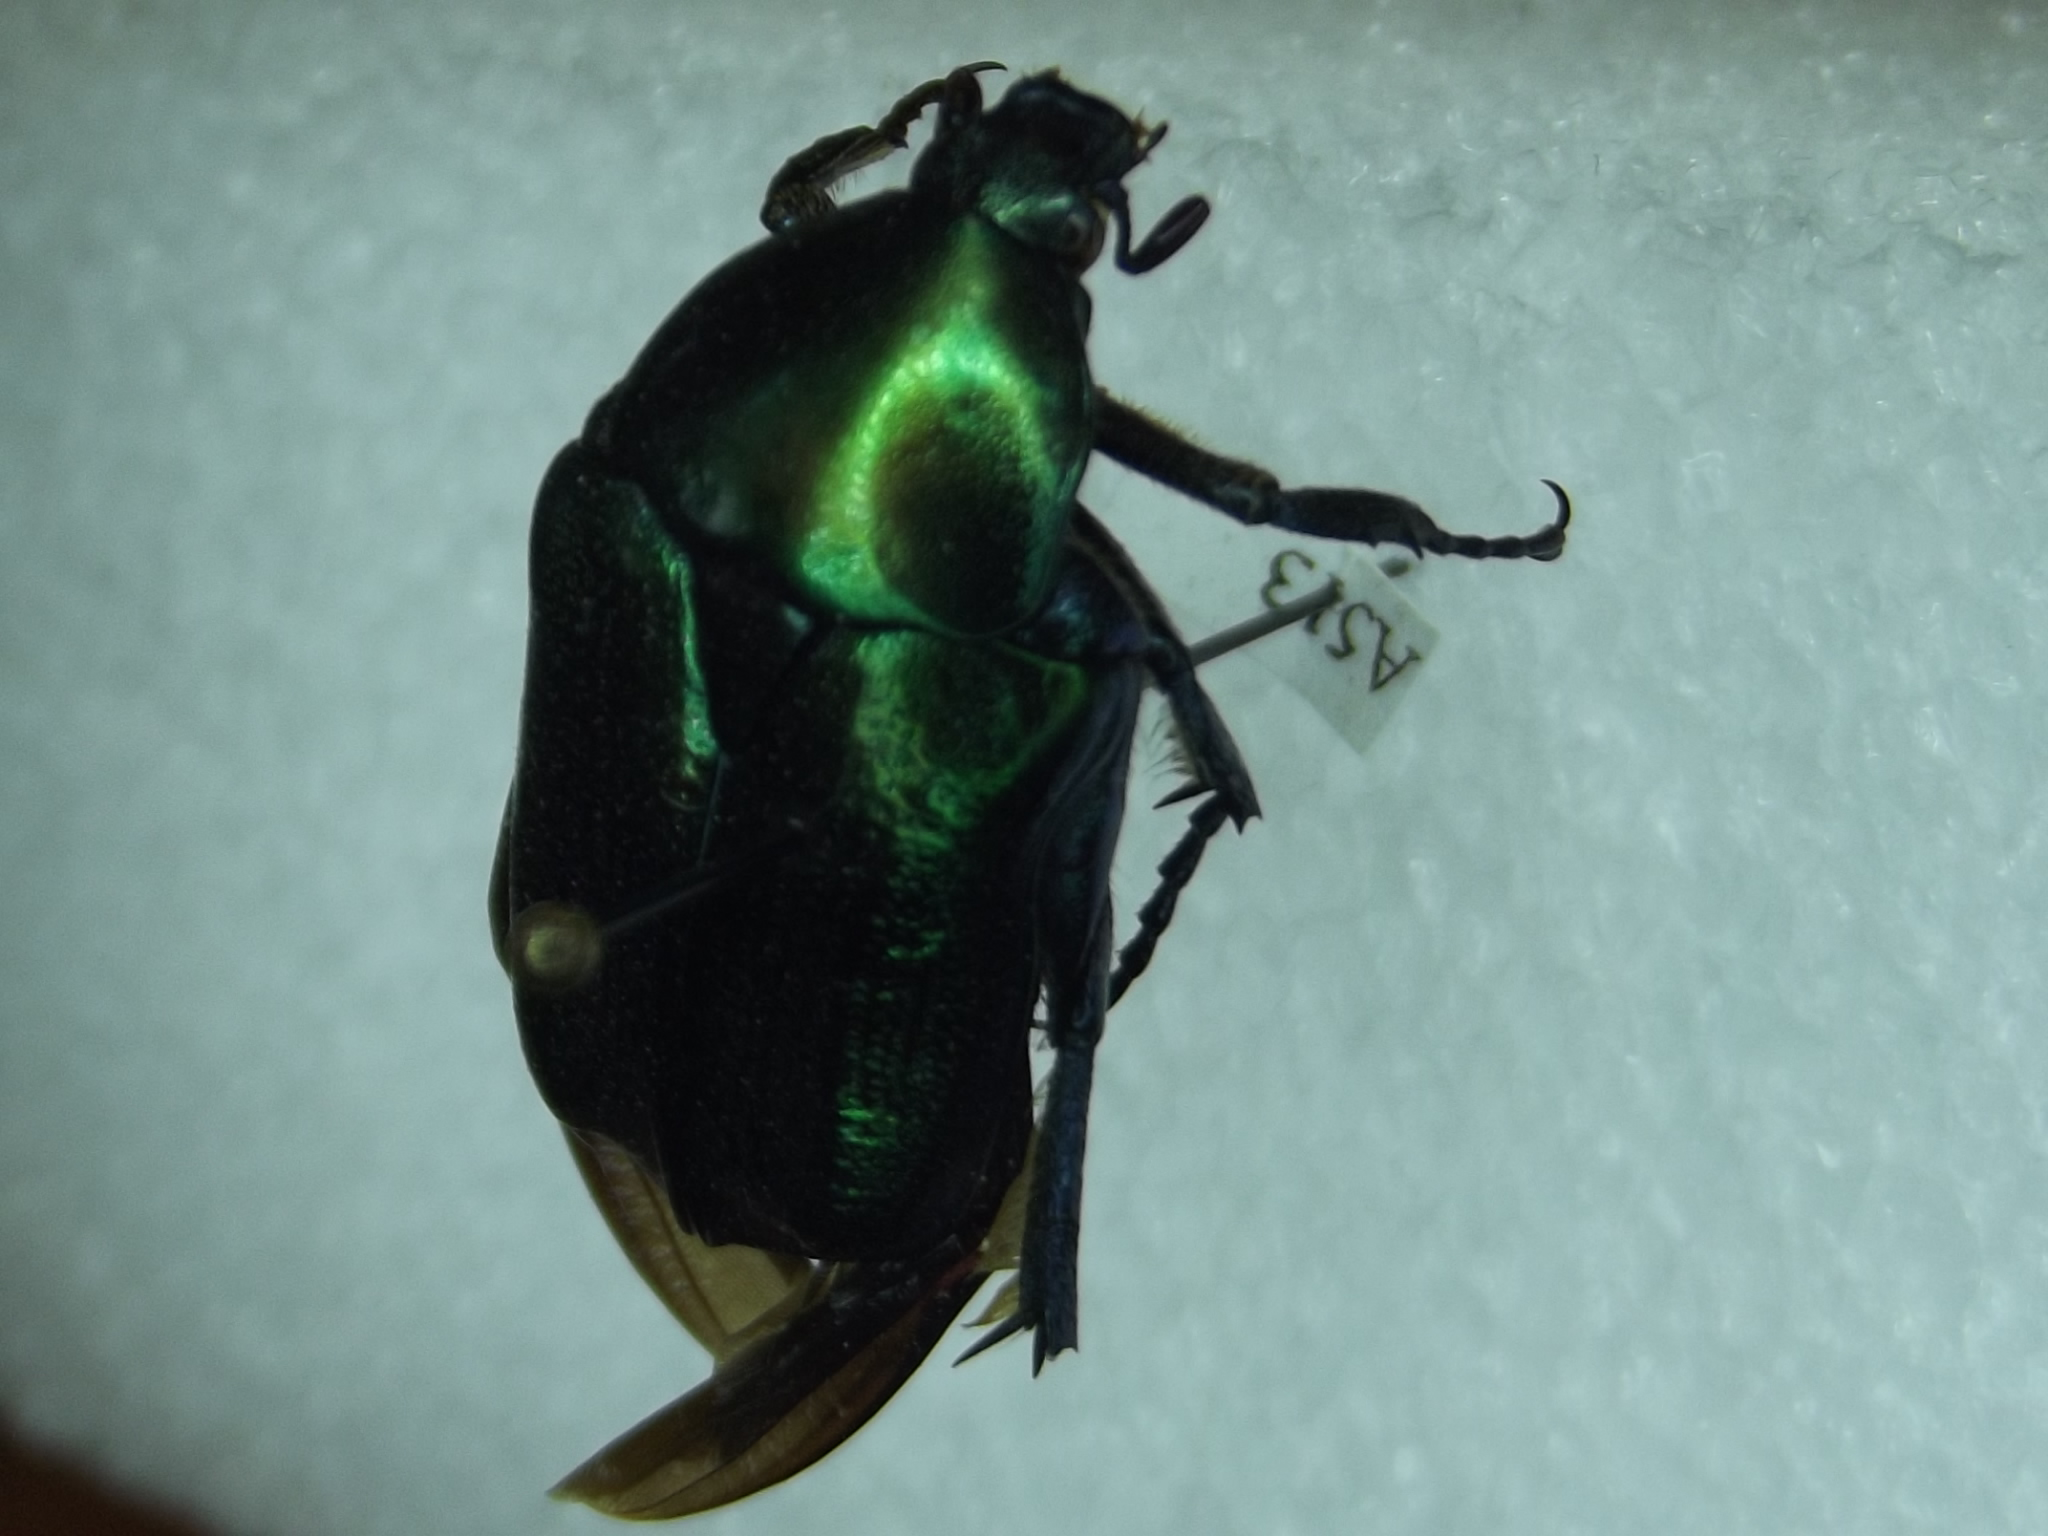Protaetia_angustata_angustata: (448, 48, 1603, 1513)
